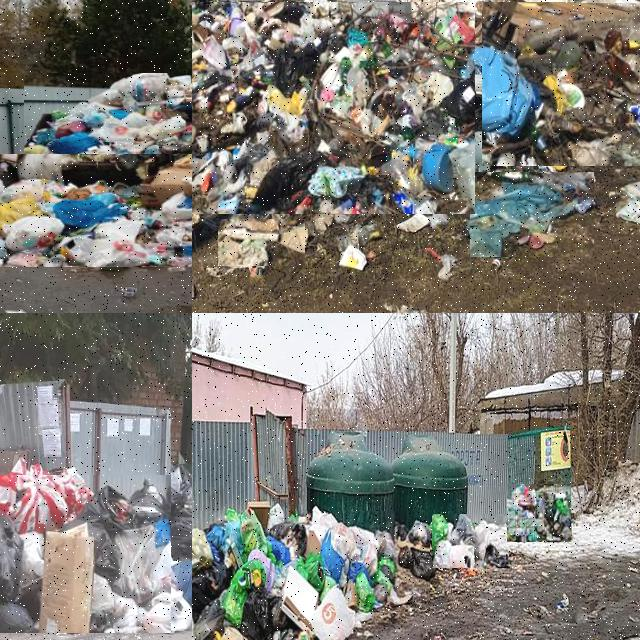lixeira: (192, 2, 477, 216), (192, 511, 432, 639), (0, 476, 173, 636), (482, 2, 639, 168), (0, 154, 191, 270), (25, 73, 191, 189), (471, 172, 596, 258), (92, 568, 191, 633), (219, 219, 307, 267), (432, 514, 507, 569), (508, 484, 573, 543), (616, 181, 639, 222), (0, 305, 27, 312)
